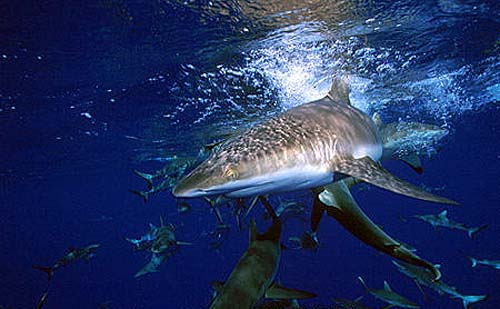Carcharhinus_amblyrhynchos: (144, 75, 466, 210)
